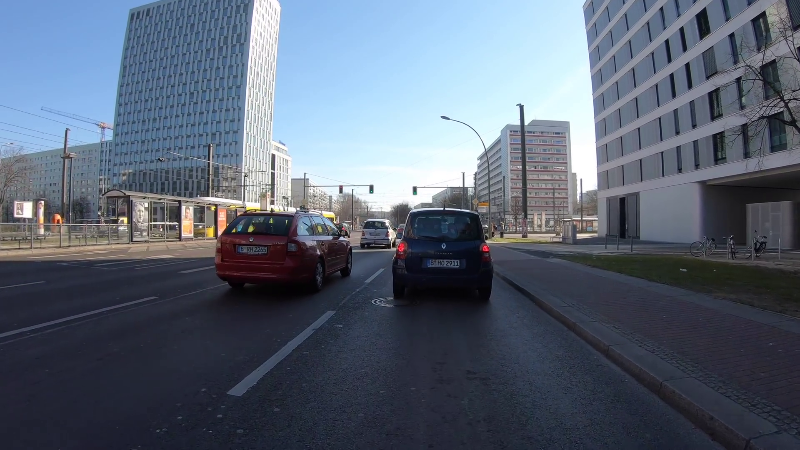Plate: (423, 258, 461, 270), (235, 243, 269, 255), (367, 230, 382, 237)
